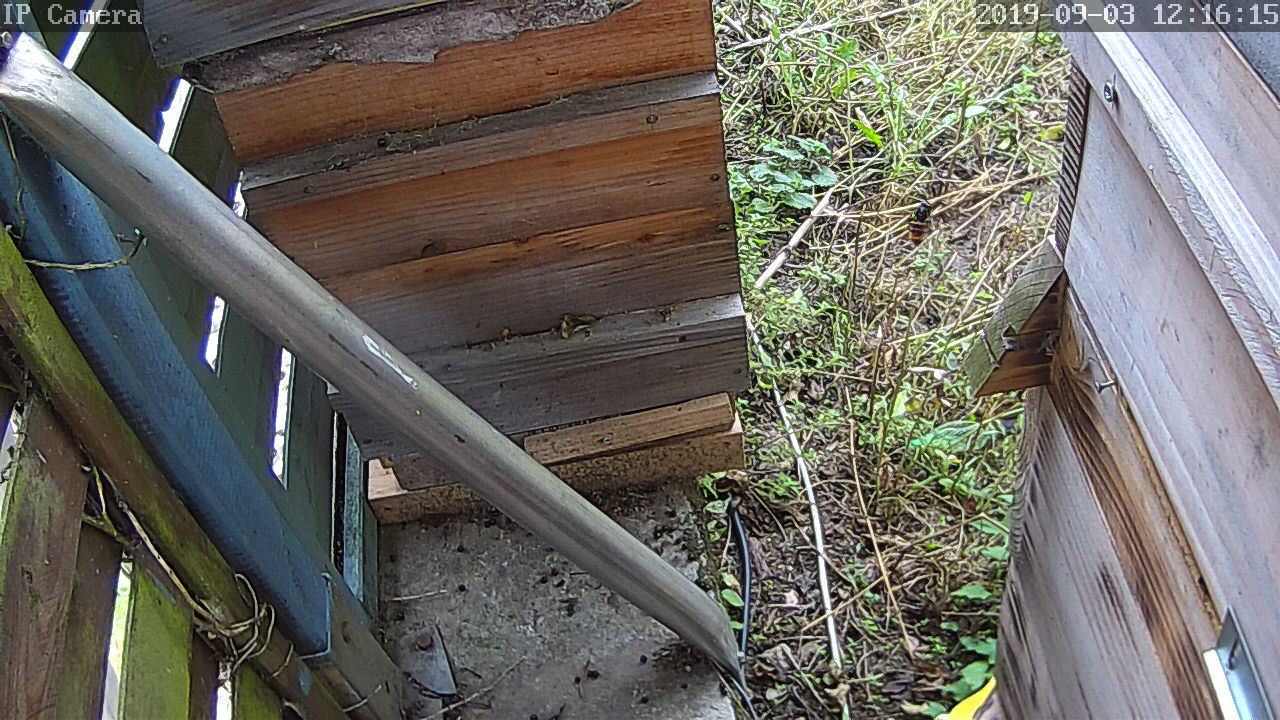hornet: (900, 197, 939, 251)
